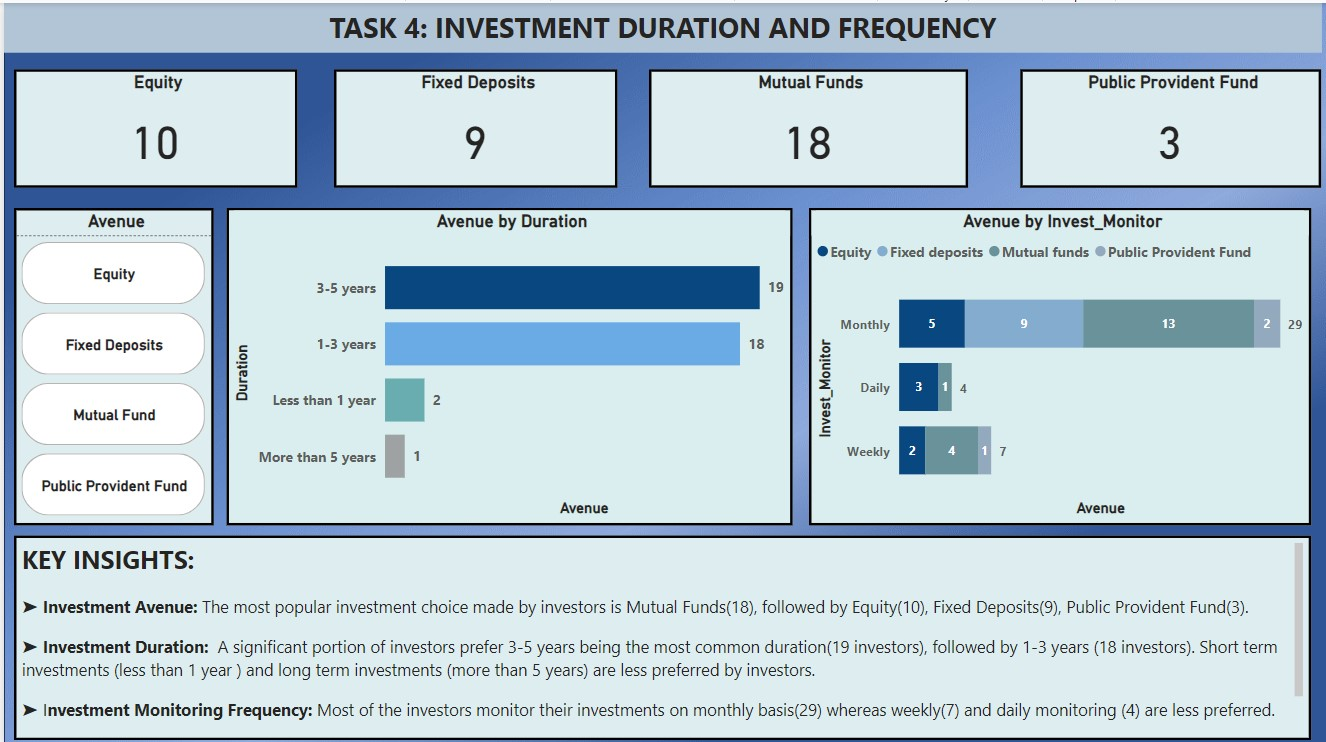

The page's visual inventory and layout, read from the dashboard file:
{"tool":"powerbi","page":{"name":"TASK 4","canvas":[1280,720],"ordinal":3},"visuals":[{"type":"card","title":"Equity","fields":{"Values":["Sales_data.correlation_for_Equity"]},"box":[9.7,63.9,273.9,114.6],"z":0},{"type":"card","title":"Fixed Deposits","fields":{"Values":["Sales_data.correlation_for_fixeddeposits"]},"box":[318.5,63.9,273.9,114.6],"z":1000},{"type":"card","title":"Mutual Funds","fields":{"Values":["Sales_data.correlation_for_mutualfunds"]},"box":[622.5,63.9,307.6,114.6],"z":2000},{"type":"card","title":"Public Provident Fund","fields":{"Values":["Sales_data.correlation_for_PPF"]},"box":[980.8,63.9,290.8,114.6],"z":3000},{"type":"advancedSlicerVisual","fields":{"Values":["Sales_data.Avenue"]},"box":[9.7,197.9,193,306.4],"z":4000},{"type":"barChart","title":"Avenue by Duration","fields":{"Y":["CountNonNull(Sales_data.Avenue)"],"Category":["Sales_data.Duration"]},"box":[214.7,197.9,546.5,306.4],"z":5000},{"type":"barChart","title":"Avenue by Invest_Monitor","fields":{"Y":["Sales_data.correlation_for_Equity","Sales_data.correlation_for_fixeddeposits","Sales_data.correlation_for_mutualfunds","Sales_data.correlation_for_PPF"],"Category":["Sales_data.Invest_Monitor"]},"box":[776.9,197.9,485,306.4],"z":6000},{"type":"textbox","box":[0,0,1271.7,47.7],"z":7000},{"type":"textbox","box":[9.7,513.9,1252.3,197.9],"z":8000}]}

Visuals, with their boxes in screenshot pixels (x1, y1, x2, y2), scaled from the page's 1280x720 canvas onto the 1326x742 screenshot:
"Equity" card: [left=10, top=66, right=294, bottom=184]
"Fixed Deposits" card: [left=330, top=66, right=614, bottom=184]
"Mutual Funds" card: [left=645, top=66, right=964, bottom=184]
"Public Provident Fund" card: [left=1016, top=66, right=1317, bottom=184]
advancedSlicerVisual - Sales_data.Avenue: [left=10, top=204, right=210, bottom=520]
"Avenue by Duration" barChart: [left=222, top=204, right=789, bottom=520]
"Avenue by Invest_Monitor" barChart: [left=805, top=204, right=1307, bottom=520]
textbox: [left=0, top=0, right=1317, bottom=49]
textbox: [left=10, top=530, right=1307, bottom=734]
